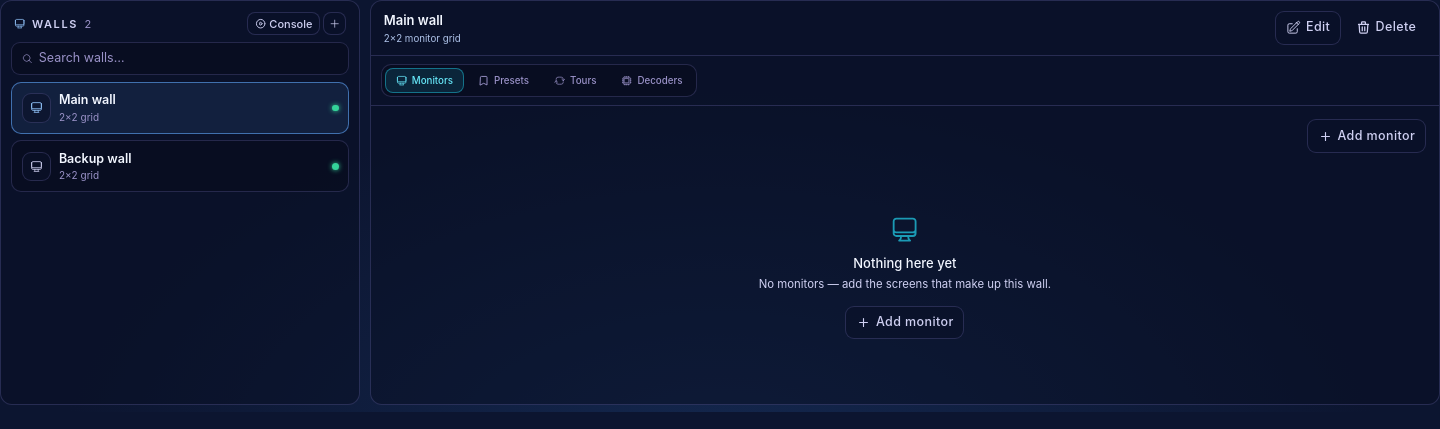
it: which wall is shown › keeps the operator's choice when the list refetches
Click the button "Backup wall 2×2 grid": (95, 158) x1=11 y1=140 x2=349 y2=192
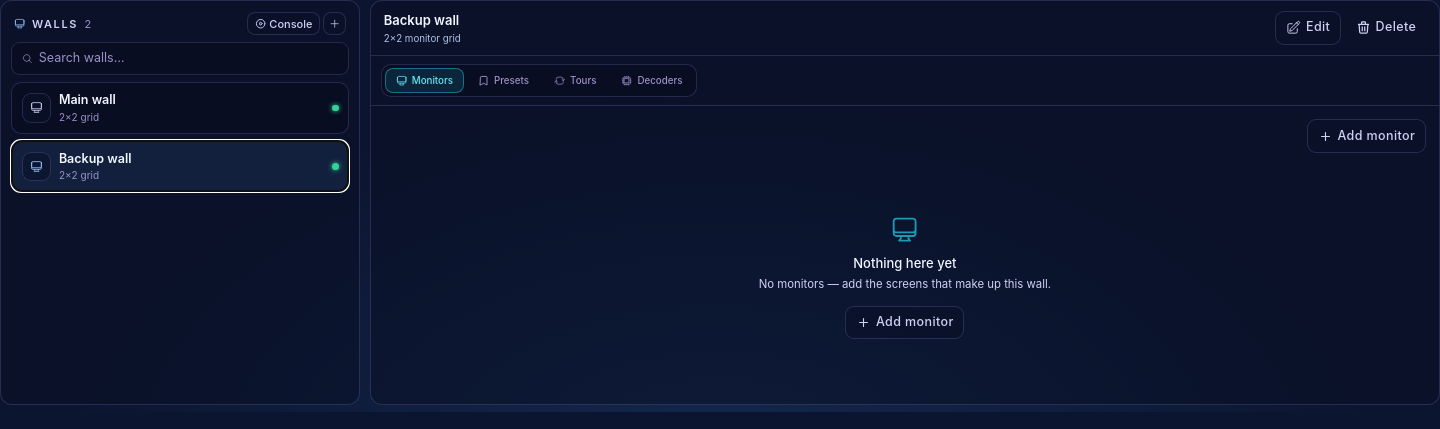
Now the heading "Backup wall" is shown, box x1=384 y1=11 x2=459 y2=30
